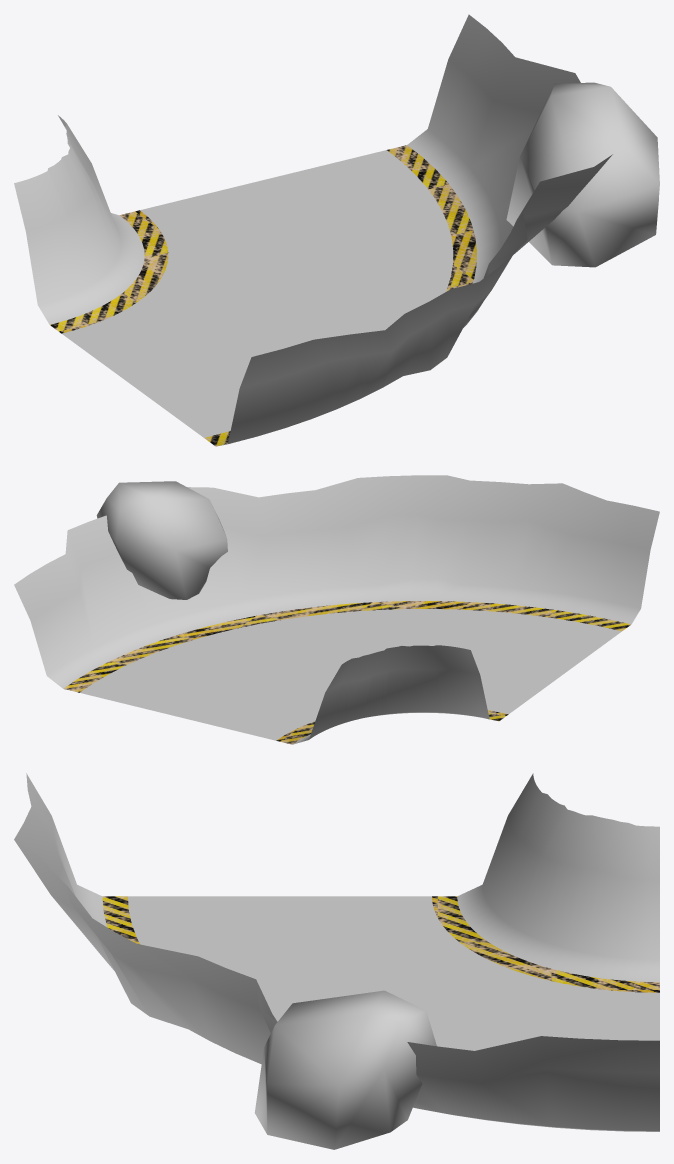
The model's file is corner_Chunk.fbx.
3 renders of one model, top to bottom at view 1: azimuth 30°, elevation 25°; view 2: azimuth 150°, elevation 25°; view 3: azimuth 270°, elevation 25°, orthographic. The views are drawn at different scales.
Parts seen in each view (by area): view 1: corner_Chunk; view 2: corner_Chunk; view 3: corner_Chunk.
Boxes of the visible parts, left/top/right/bottom form: corner_Chunk: left=14, top=14, right=659, bottom=446; corner_Chunk: left=14, top=475, right=659, bottom=744; corner_Chunk: left=14, top=773, right=659, bottom=1149.
Size of the model in its own units: 53.76 by 13.21 by 50.98.
